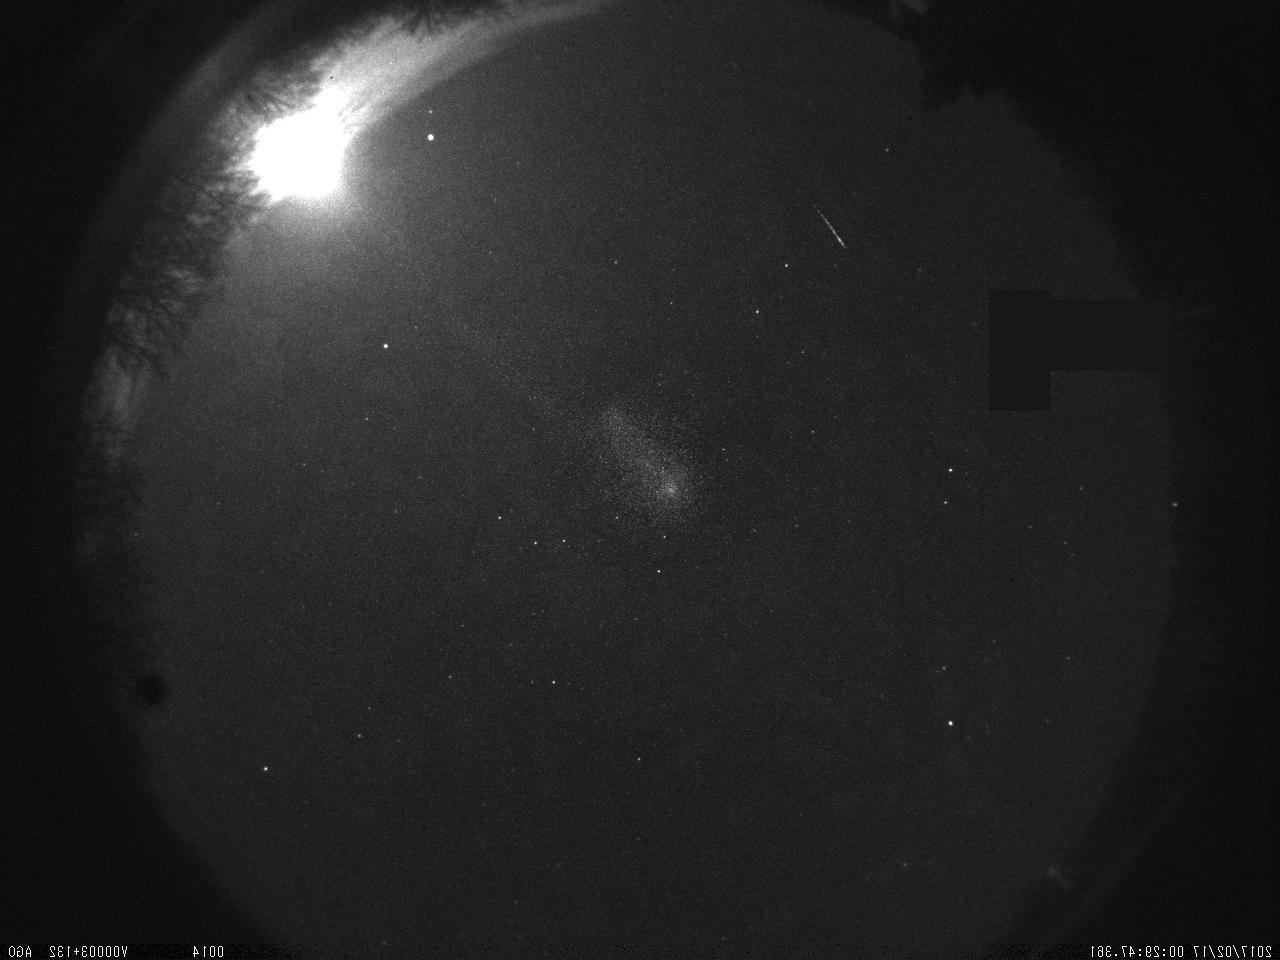meteor: (804, 194, 854, 255)
